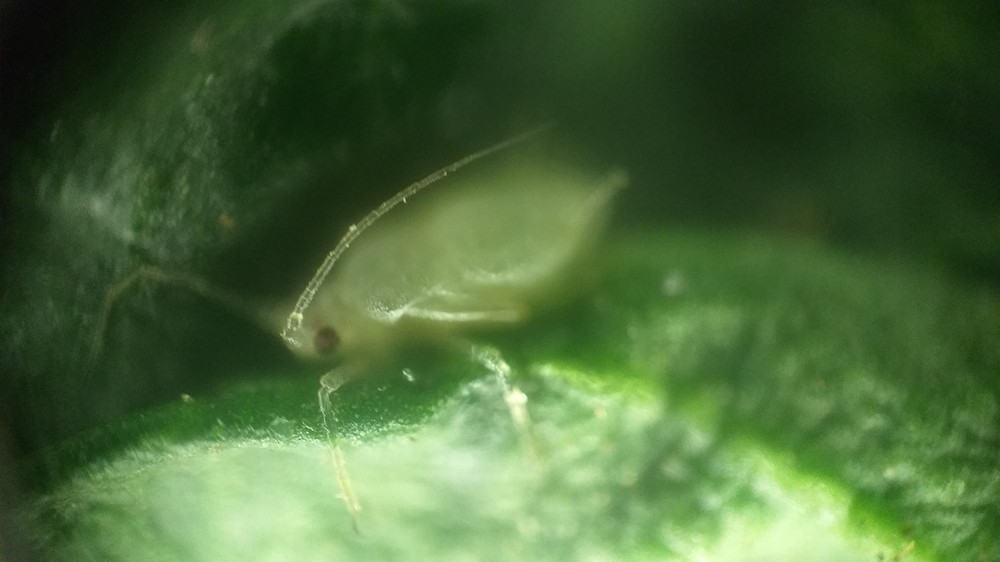Pulgon: (225, 99, 696, 505)
